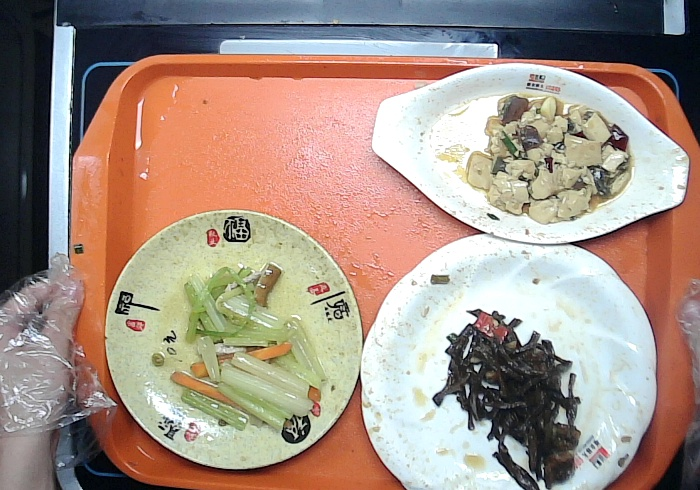NLDX-Bai_Zhe_Yuan_Pan: (358, 226, 660, 490)
NLDX-Fu_Zi_Yuan_Pan: (102, 204, 364, 479)
NLDX-Yu_Pan: (365, 56, 693, 252)
